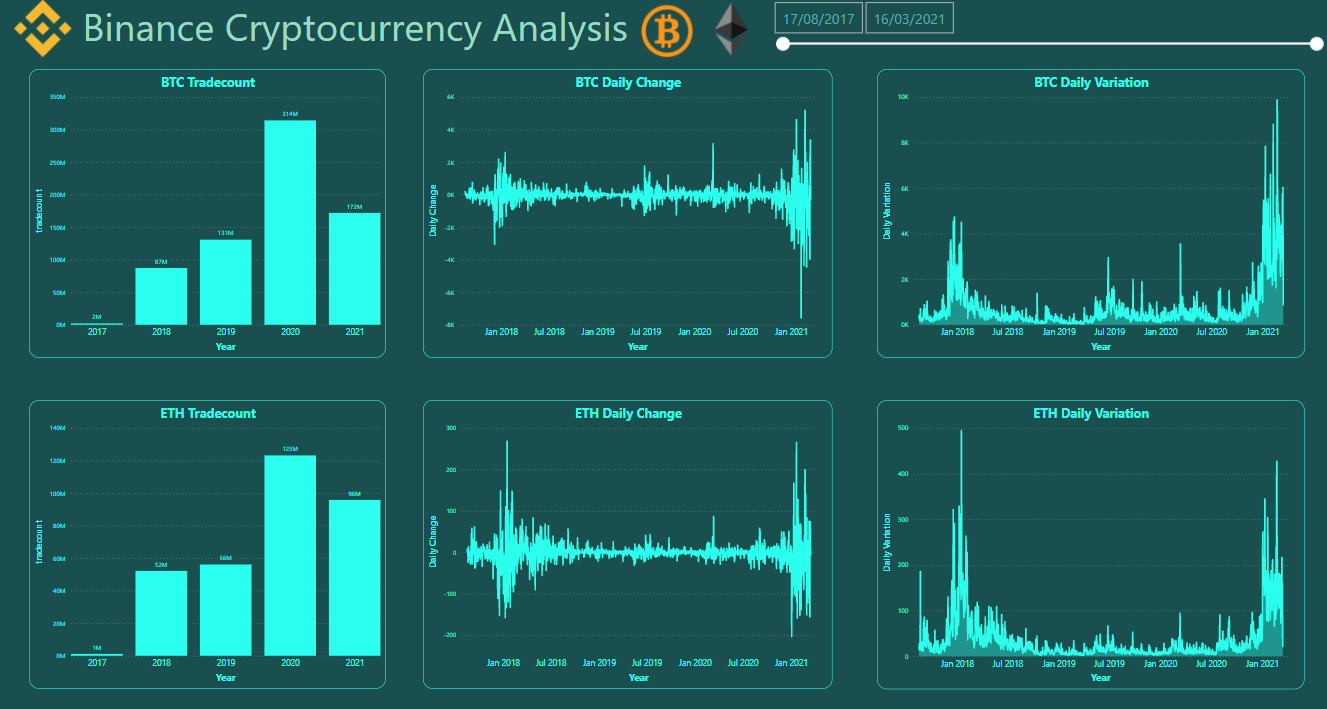

This screenshot's page, from the dashboard's own definition file:
{"tool":"powerbi","page":{"name":"Page 1","canvas":[2505,1340],"ordinal":0},"visuals":[{"type":"textbox","box":[0,0,1206.8,135.7],"z":0},{"type":"image","box":[0,0,175.2,118.5],"z":1000},{"type":"slicer","title":"zxzx","fields":{"Values":["Binance_BTCUSDT_d (2).date"]},"box":[1452.7,0,1053.4,117.6],"z":3000},{"type":"image","box":[1164.9,9.9,195,108.6],"z":4000},{"type":"areaChart","title":"ETH Daily Variation","fields":{"Y":["Sum(Binance_ETHUSDT_d.Daily Variation)"],"Category":["Binance_ETHUSDT_d.date.Variation.Date Hierarchy.Year","Binance_ETHUSDT_d.date.Variation.Date Hierarchy.Month","Binance_ETHUSDT_d.date.Variation.Date Hierarchy.Day"]},"box":[1656,757,803.5,543.8],"z":5000},{"type":"areaChart","title":"ETH Daily Change","fields":{"Category":["Binance_ETHUSDT_d.date.Variation.Date Hierarchy.Year","Binance_ETHUSDT_d.date.Variation.Date Hierarchy.Month","Binance_ETHUSDT_d.date.Variation.Date Hierarchy.Day"],"Y":["Sum(Binance_ETHUSDT_d.Daily Change)"]},"box":[802.1,757.7,770,543],"z":6000},{"type":"columnChart","title":"ETH Tradecount","fields":{"Category":["Binance_ETHUSDT_d.date.Variation.Date Hierarchy.Year","Binance_ETHUSDT_d.date.Variation.Date Hierarchy.Quarter","Binance_ETHUSDT_d.date.Variation.Date Hierarchy.Month","Binance_ETHUSDT_d.date.Variation.Date Hierarchy.Day"],"Y":["Sum(Binance_ETHUSDT_d.tradecount)"]},"box":[61.7,757.7,671.3,543],"z":7000},{"type":"image","box":[1313,4.9,140.7,108.6],"z":8004},{"type":"columnChart","title":"BTC Tradecount","fields":{"Y":["Sum(Binance_BTCUSDT_d (2).tradecount)"],"Category":["Binance_BTCUSDT_d (2).date.Variation.Date Hierarchy.Year","Binance_BTCUSDT_d (2).date.Variation.Date Hierarchy.Quarter","Binance_BTCUSDT_d (2).date.Variation.Date Hierarchy.Month","Binance_BTCUSDT_d (2).date.Variation.Date Hierarchy.Day"]},"box":[61.7,135.7,671.3,543],"z":8005},{"type":"areaChart","title":"BTC Daily Change","fields":{"Y":["Sum(Binance_BTCUSDT_d (2).Daily Change)"],"Category":["Binance_BTCUSDT_d (2).date.Variation.Date Hierarchy.Year","Binance_BTCUSDT_d (2).date.Variation.Date Hierarchy.Quarter","Binance_BTCUSDT_d (2).date.Variation.Date Hierarchy.Month","Binance_BTCUSDT_d (2).date.Variation.Date Hierarchy.Day"]},"box":[802.1,135.7,770,543],"z":8006},{"type":"areaChart","title":"BTC Daily Variation","fields":{"Category":["Binance_BTCUSDT_d (2).date.Variation.Date Hierarchy.Year","Binance_BTCUSDT_d (2).date.Variation.Date Hierarchy.Quarter","Binance_BTCUSDT_d (2).date.Variation.Date Hierarchy.Month","Binance_BTCUSDT_d (2).date.Variation.Date Hierarchy.Day"],"Y":["Sum(Binance_BTCUSDT_d (2).Daily Variation)"]},"box":[1656,135.7,804.6,543],"z":8007}]}

Visuals, with their boxes in screenshot pixels (x1, y1, x2, y2), scaled from the page's 2505x1340 canvas onto the 1327x709 screenshot:
textbox: rect(0, 0, 639, 72)
image: rect(0, 0, 93, 63)
"zxzx" slicer: rect(770, 0, 1326, 62)
image: rect(617, 5, 720, 63)
"ETH Daily Variation" areaChart: rect(877, 401, 1303, 688)
"ETH Daily Change" areaChart: rect(425, 401, 833, 688)
"ETH Tradecount" columnChart: rect(33, 401, 388, 688)
image: rect(696, 3, 770, 60)
"BTC Tradecount" columnChart: rect(33, 72, 388, 359)
"BTC Daily Change" areaChart: rect(425, 72, 833, 359)
"BTC Daily Variation" areaChart: rect(877, 72, 1303, 359)
